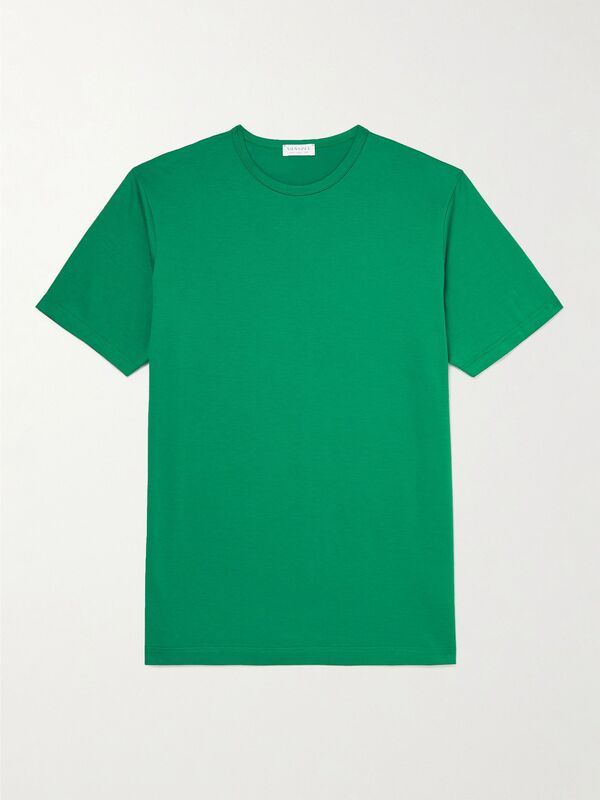tshirt: (31, 115, 568, 669)
